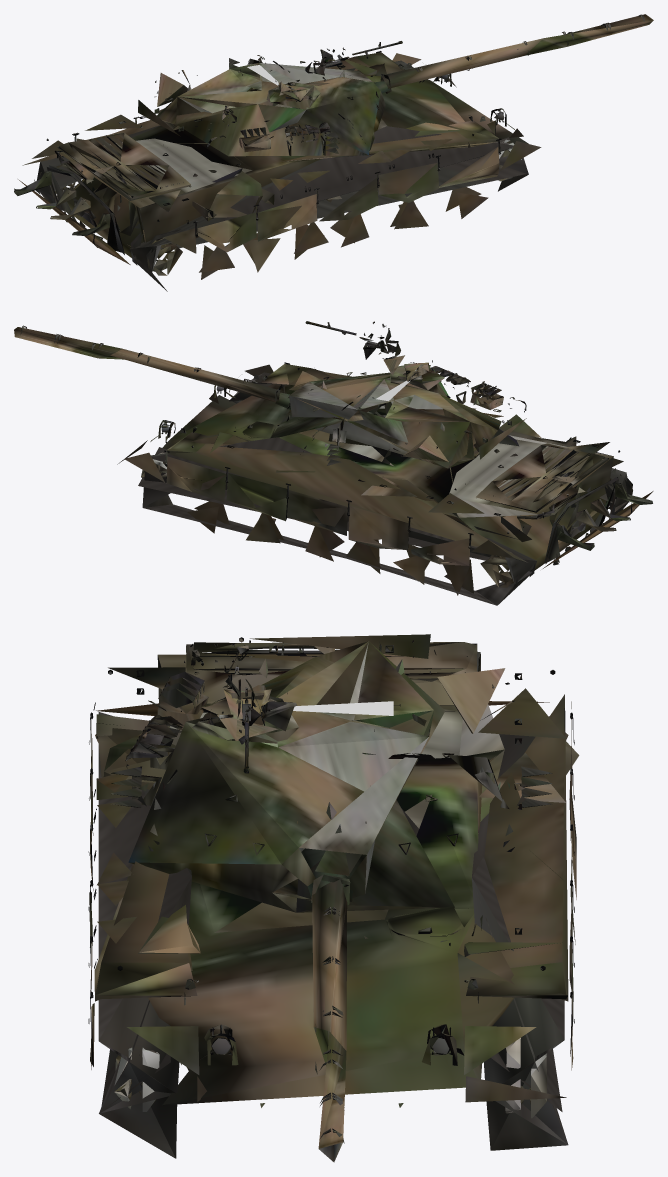
File: type96_lo.glb
The picture shows the model from 3 angles, top to bottom: view 1: azimuth 30°, elevation 25°; view 2: azimuth 150°, elevation 25°; view 3: azimuth 270°, elevation 25°; orthographic projection. The views are drawn at different scales.
Visible parts, largest first — view 1: g_type96_hull, g_type96_turret, g_type96_gun; view 2: g_type96_hull, g_type96_turret, g_type96_gun; view 3: g_type96_hull, g_type96_turret, g_type96_gun.
Part boxes in pixels (box(x1,y1,x2,y2)): g_type96_hull: box(14, 43, 541, 291); g_type96_turret: box(154, 14, 644, 166); g_type96_gun: box(352, 14, 653, 93); g_type96_hull: box(117, 323, 653, 605); g_type96_turret: box(20, 321, 514, 487); g_type96_gun: box(14, 321, 356, 409); g_type96_hull: box(88, 634, 579, 1158); g_type96_turret: box(111, 637, 552, 1143); g_type96_gun: box(243, 722, 352, 1162).
Size of the model in its own units: 10.22 by 2.93 by 3.57.
Materials: 4 (3 with a texture image).
